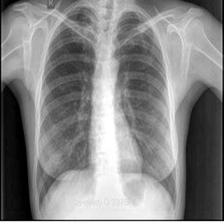tuberculosis: (32, 4, 185, 219)
